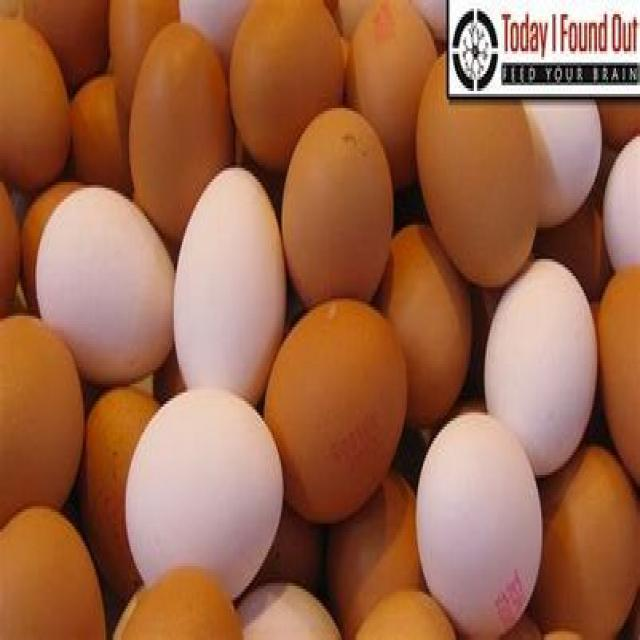Egg: (121, 391, 287, 616), (400, 401, 551, 640), (27, 170, 180, 374), (162, 166, 298, 392), (486, 251, 610, 474)
